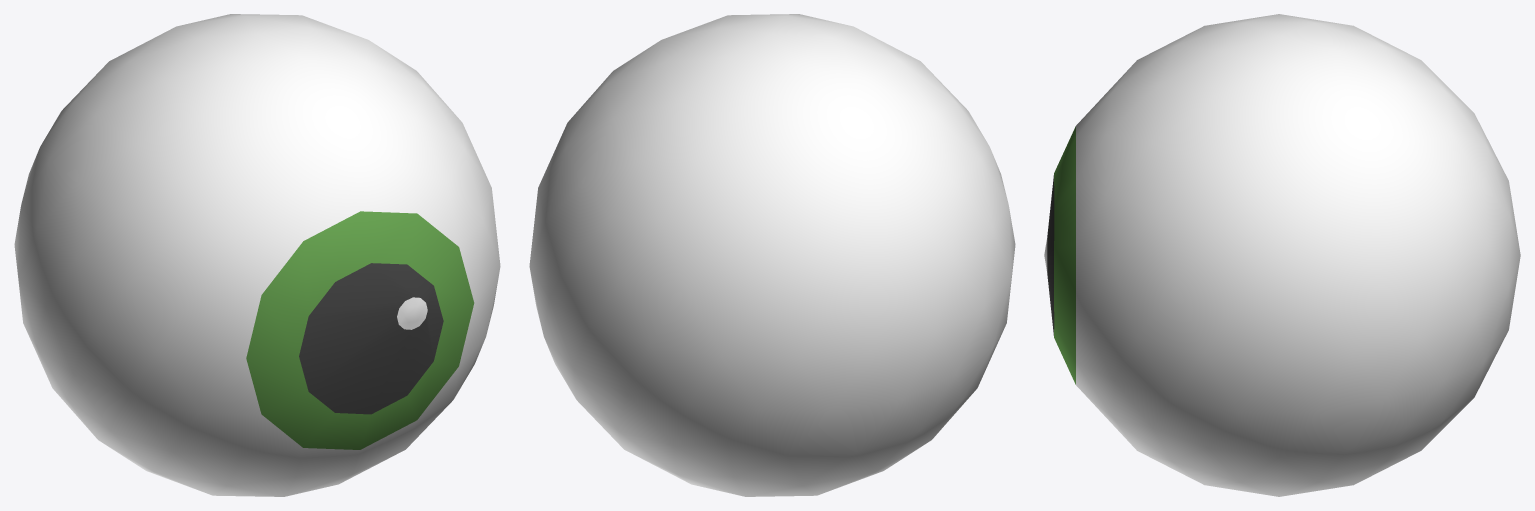
The model's file is Eye_2.fbx.
3 renders of one model, left to right at view 1: azimuth 30°, elevation 25°; view 2: azimuth 150°, elevation 25°; view 3: azimuth 270°, elevation 25°, orthographic.
Parts seen in each view (by area): view 1: Eye_2; view 2: Eye_2; view 3: Eye_2.
Boxes of the visible parts, <box> form: Eye_2: <box>14,14,500,496</box>; Eye_2: <box>529,14,1015,496</box>; Eye_2: <box>1044,14,1520,496</box>.
Bounding box in the file's own units: 0.1952 × 0.1952 × 0.1925.
